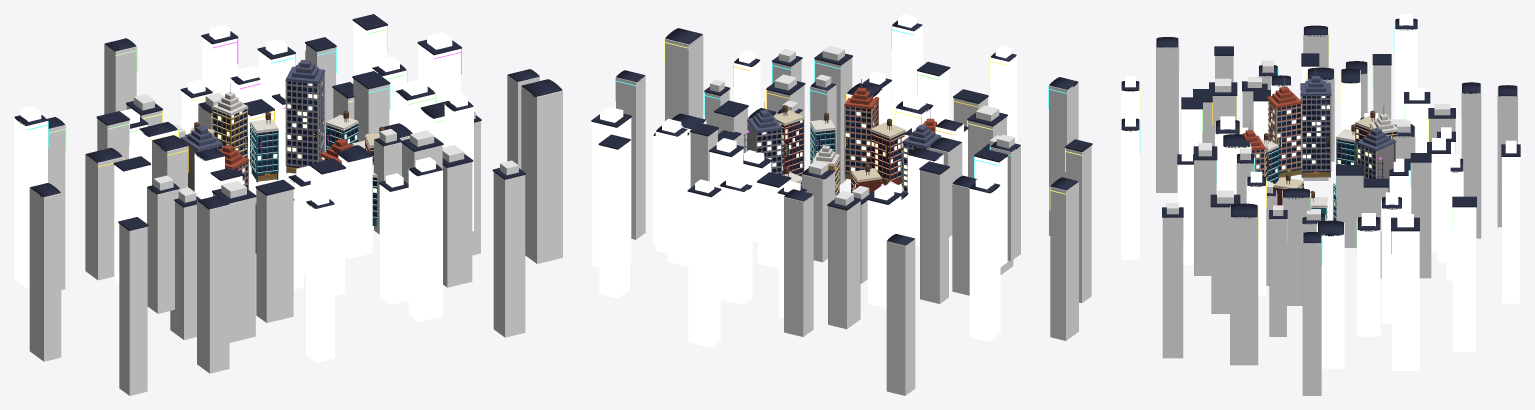
The model's file is toit_ville_quest.glb.
3 renders of one model, left to right at view 1: azimuth 30°, elevation 25°; view 2: azimuth 150°, elevation 25°; view 3: azimuth 270°, elevation 25°, orthographic. The views are drawn at different scales.
Visible parts, largest first — view 1: Q_fenetres_2, Q_beton_0, Q_fenetres_1, Q_brique_0, Q_brique_jaune_0, Q_brique_jaune_2, Q_brique_3, Q_brique_jaune_7, Q_fenetres_4, Q_peinture_5, Q_fenetres_5, Q_fenetres_7 (+24 smaller); view 2: Q_fenetres_5, Q_fenetres_4, Q_fenetres_7, Q_brique_jaune_7, Q_beton_0, Q_brique_6, Q_beton_6, Q_fenetres_1, Q_brique_7, Q_brique_jaune_3, Q_brique_3, Q_peinture_2 (+27 smaller); view 3: Q_fenetres_4, Q_fenetres_5, Q_brique_jaune_3, Q_peinture_0, Q_brique_3, Q_fenetres_2, Q_beton_3, Q_beton_0, Q_fenetres_7, Q_brique_jaune_2, Q_brique_jaune_7, Q_beton_2 (+27 smaller).
Boxes of the visible parts, x1,y1,x2,y2 form: Q_fenetres_2: (338,155,442,322); Q_beton_0: (29,187,229,373); Q_fenetres_1: (287,165,345,362); Q_brique_0: (119,187,196,395); Q_brique_jaune_0: (147,175,255,342); Q_brique_jaune_2: (374,128,525,337); Q_brique_3: (401,85,562,263); Q_brique_jaune_7: (48,125,187,289); Q_fenetres_4: (353,21,460,147); Q_peinture_5: (249,50,325,182); Q_fenetres_5: (202,25,296,197); Q_fenetres_7: (14,106,177,288); Q_fenetres_5: (688,138,790,347); Q_fenetres_4: (592,106,706,298); Q_fenetres_7: (867,154,1000,341); Q_brique_jaune_7: (886,142,969,395); Q_beton_0: (1049,81,1078,340); Q_brique_6: (828,186,869,329); Q_beton_6: (784,194,813,336); Q_fenetres_1: (895,45,1016,185); Q_brique_7: (920,168,948,303); Q_brique_jaune_3: (616,75,729,239); Q_brique_3: (665,34,803,120); Q_peinture_2: (809,79,879,179); Q_fenetres_4: (1317,192,1476,370); Q_fenetres_5: (1390,138,1520,303); Q_brique_jaune_3: (1269,205,1321,395); Q_peinture_0: (1266,67,1331,178); Q_brique_3: (1230,182,1325,365); Q_fenetres_2: (1121,114,1250,265); Q_beton_3: (1211,190,1310,313); Q_beton_0: (1156,27,1328,192); Q_fenetres_7: (1340,14,1429,152); Q_brique_jaune_2: (1162,148,1254,358); Q_brique_jaune_7: (1307,62,1481,238); Q_beton_2: (1194,143,1216,275).
Bounding box in the file's own units: 280 × 122 × 219.
